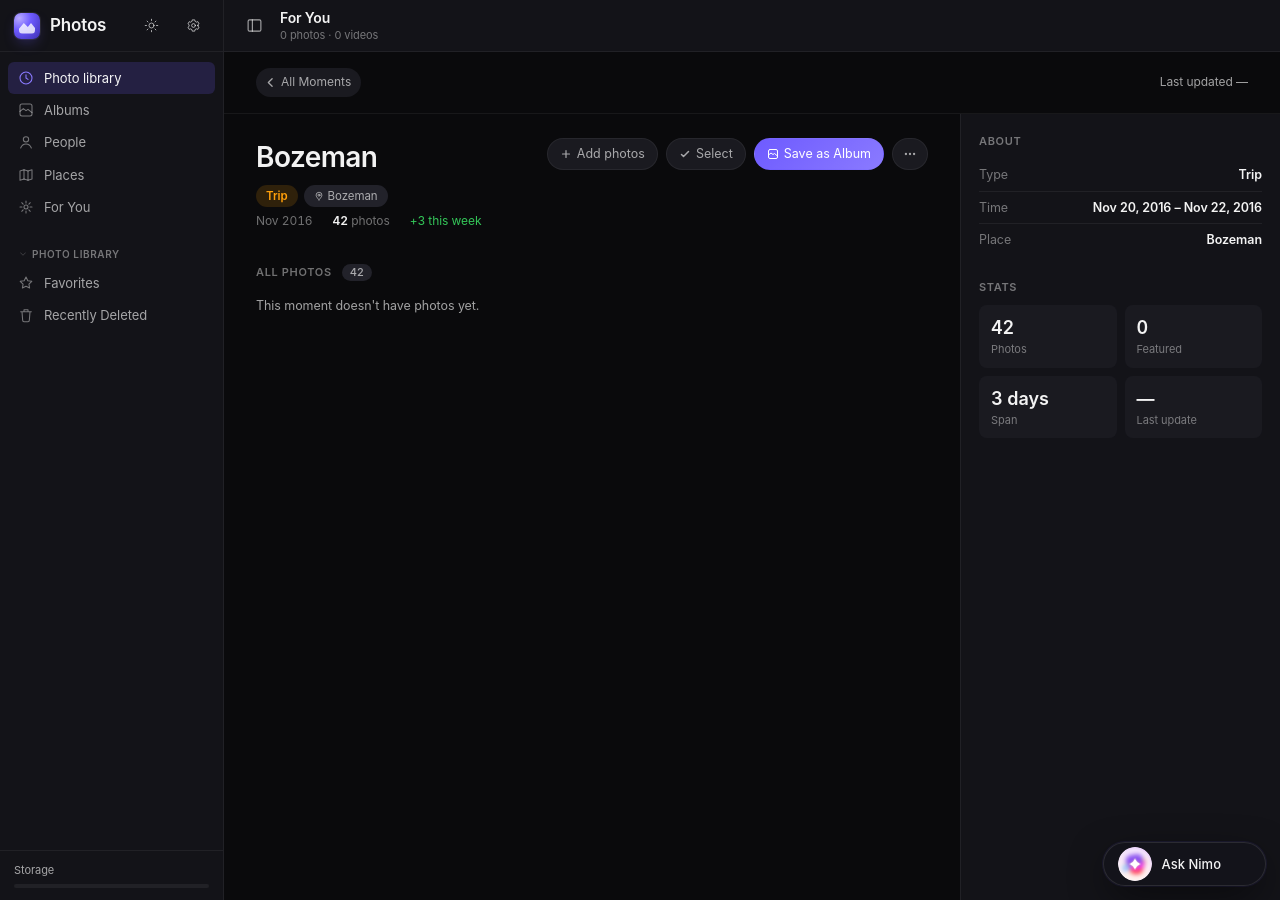
Test: delete moment › a failed delete stays on the page with the dialog open and the message inline, not a toast
Click the button with test id "mo-more": (910, 154) [892,138,928,170]
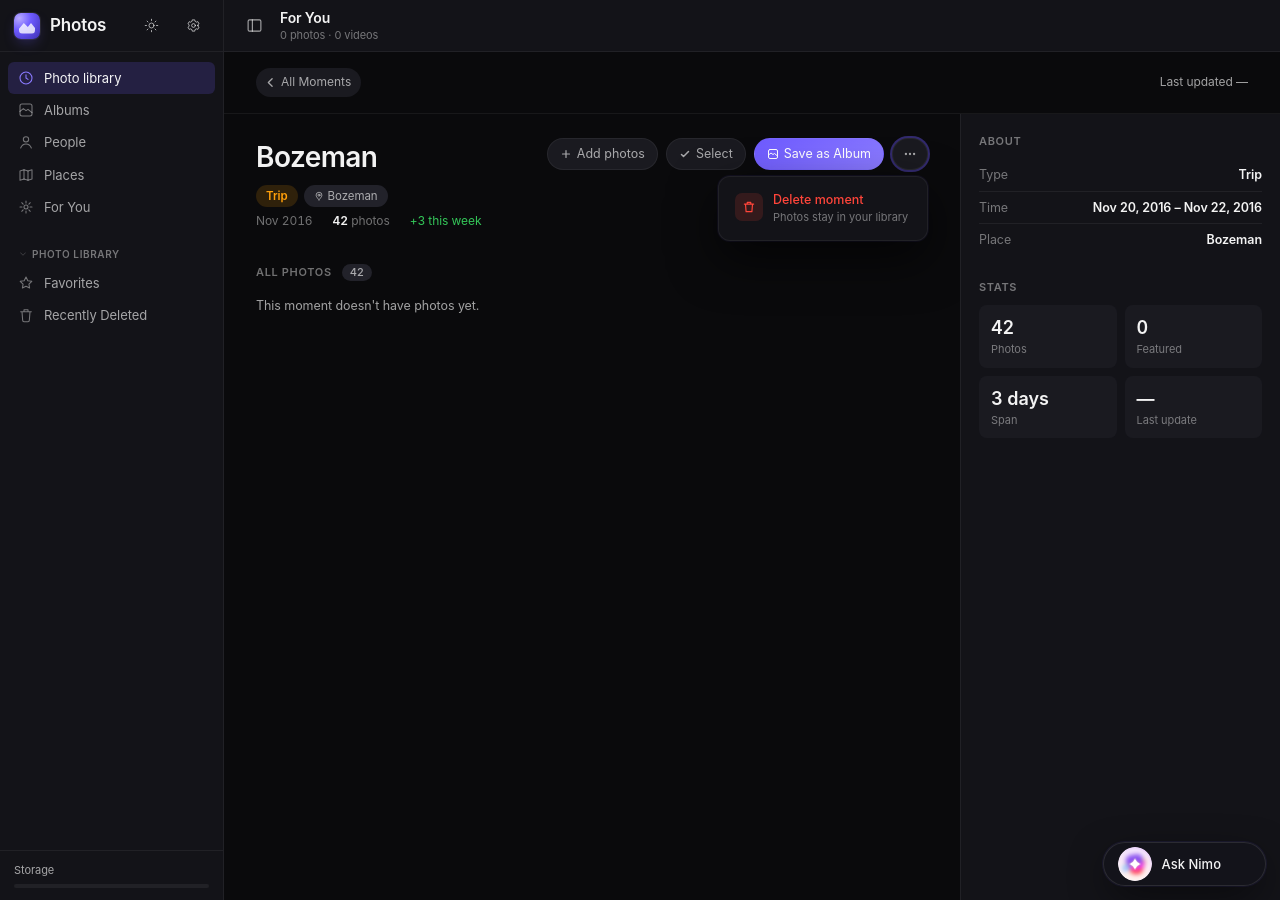
Click the button with test id "mo-delete": (823, 208) [725,183,921,234]
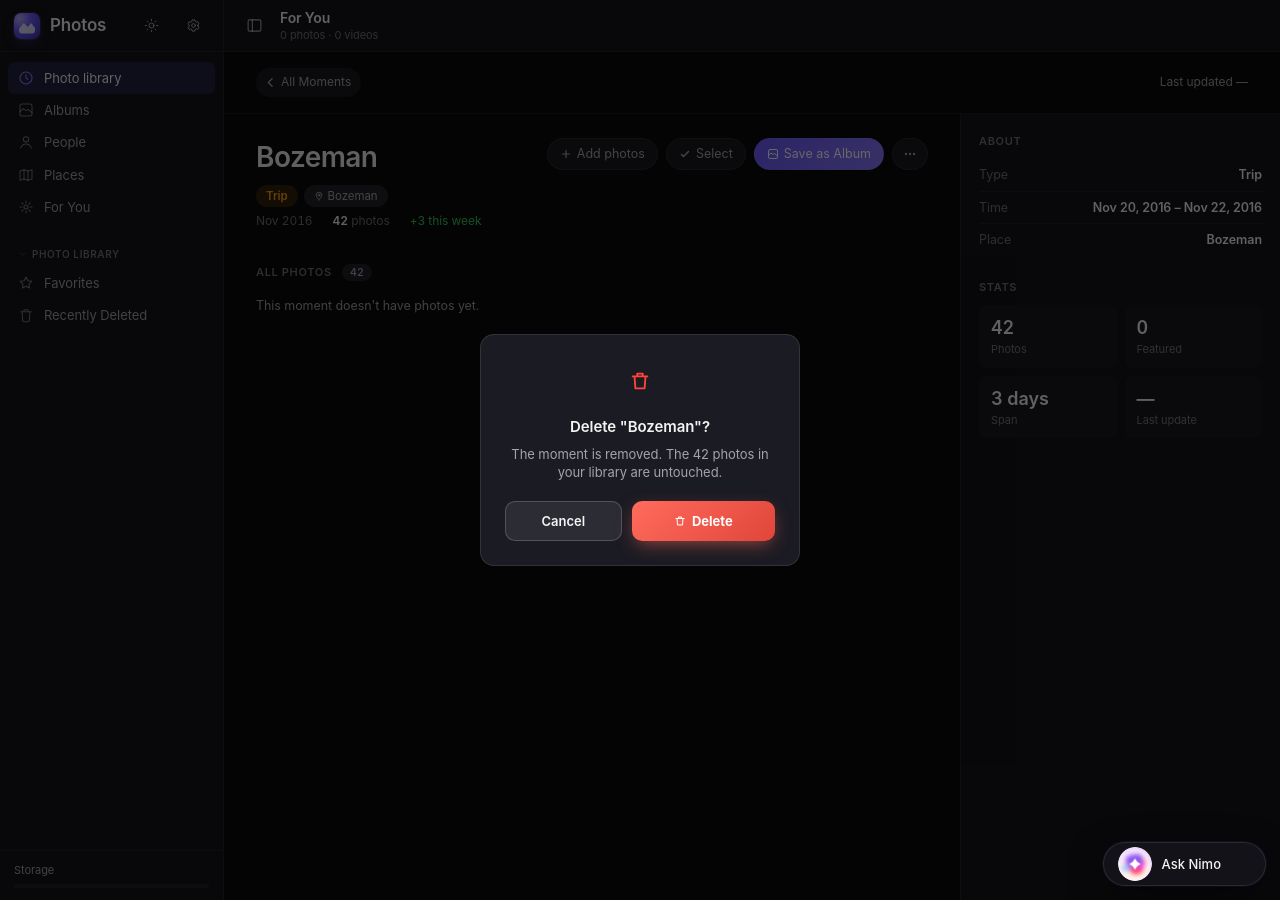
Click the button with test id "mo-delete-go": (703, 521) [632,501,775,541]
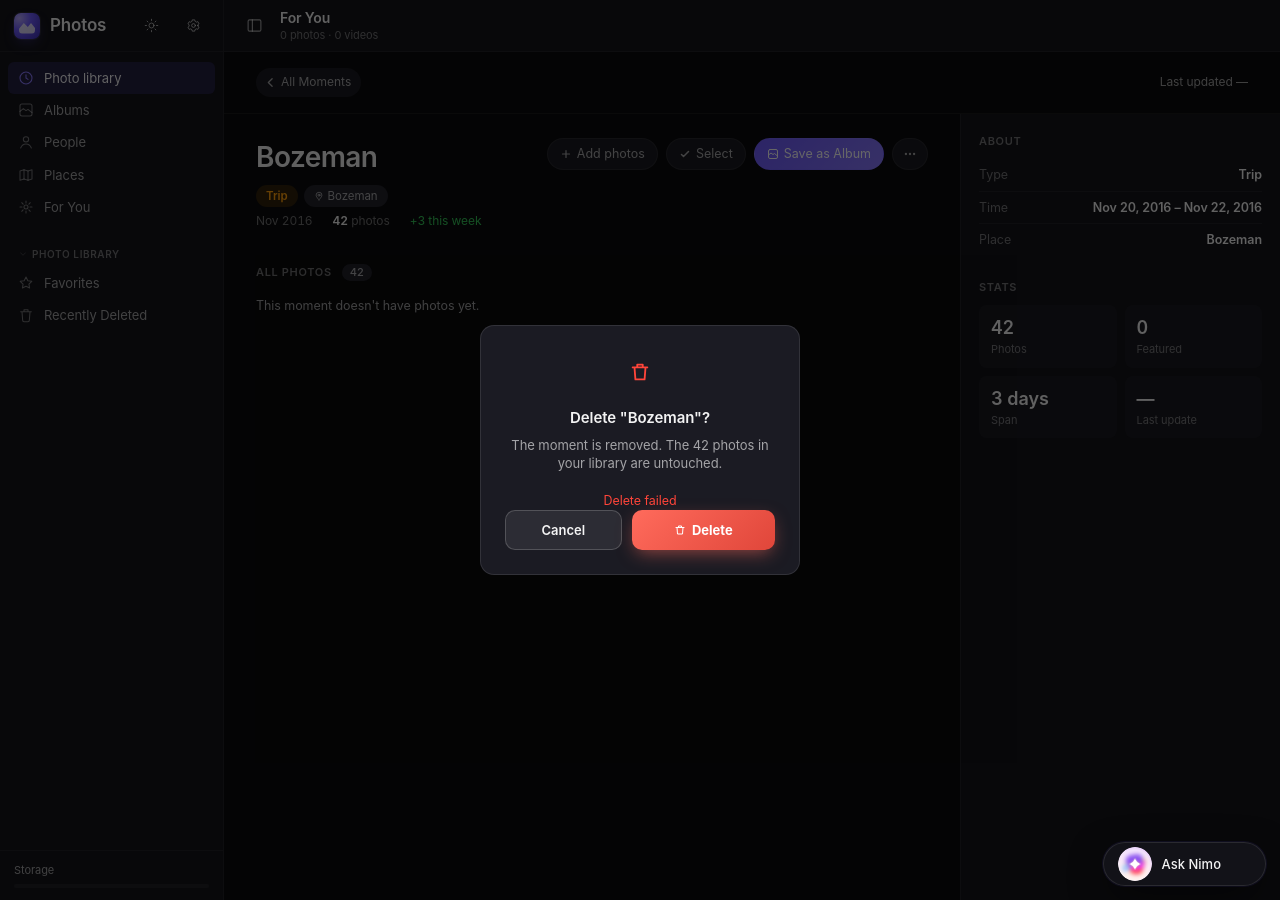
Expected: the element with test id "mo-delete-confirm" is shown
Expected: the text "Delete failed" is shown, [604,493,676,508]
